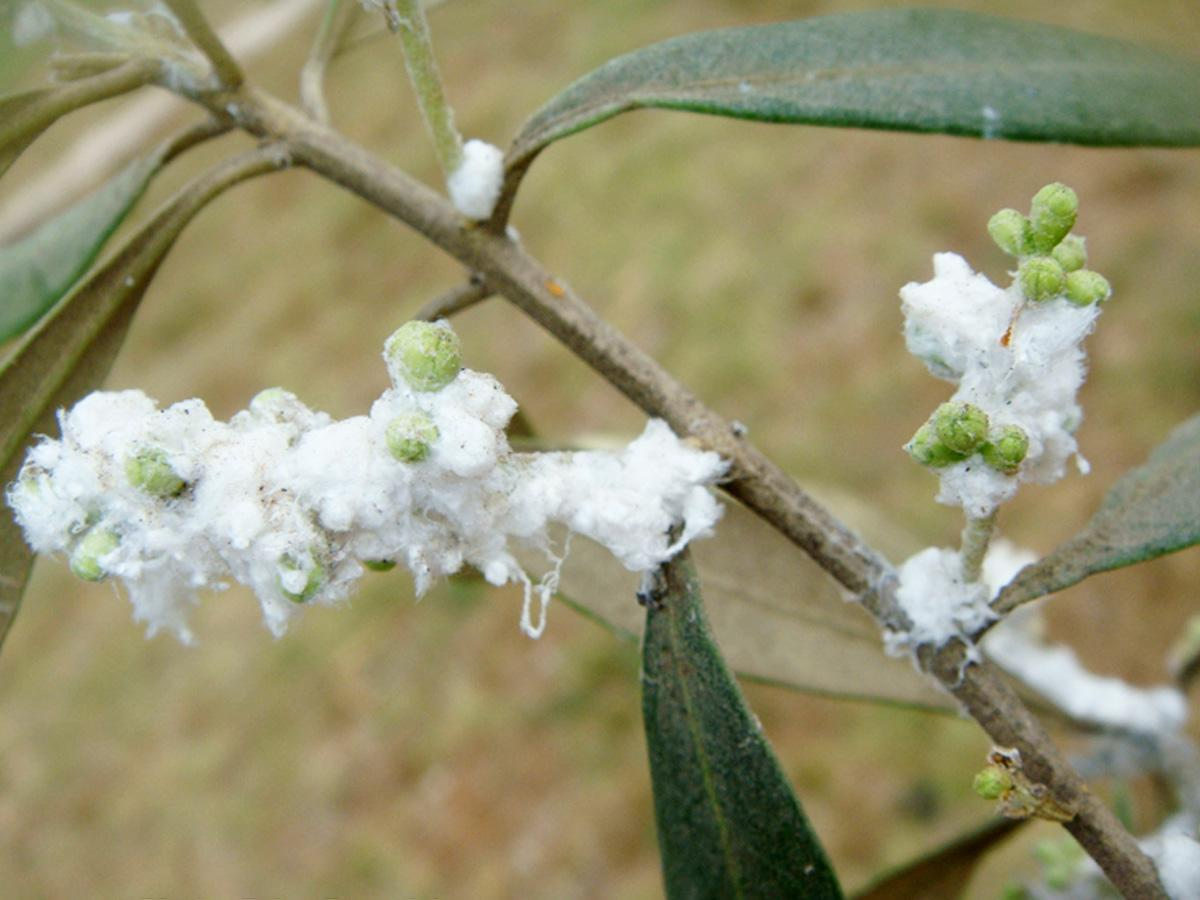Psyllid: (7, 360, 718, 652), (864, 155, 1135, 694), (416, 110, 574, 232)
